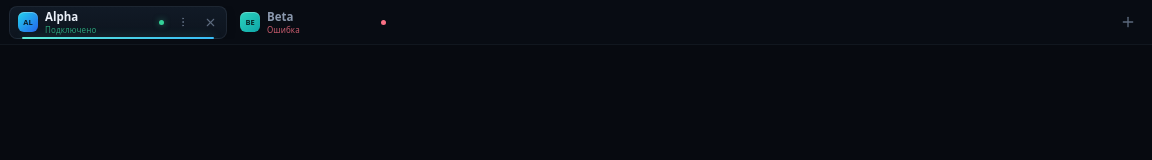
TabBar › объединяет вкладки через контекстное меню
Later steps or results of the test are not shown.
Right-click the tab "AL Alpha Подключено" at x=118, y=22, box [9, 6, 227, 38]
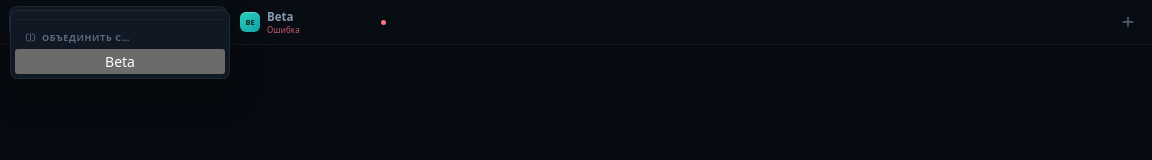
Expected: the text "Объединить с…" is shown, [25, 31, 130, 44]
